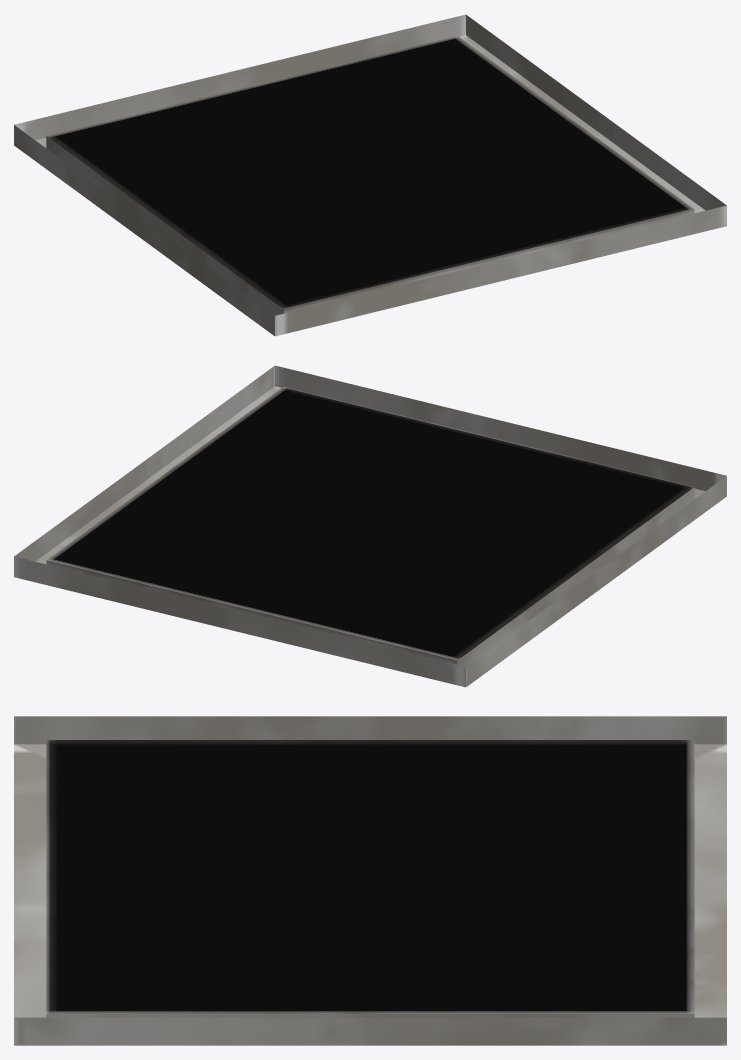
Rendered from FBX_Vent02.fbx.
3 views of the same model, one above another, from view 1: azimuth 30°, elevation 25°; view 2: azimuth 150°, elevation 25°; view 3: azimuth 270°, elevation 25° (orthographic). The views are drawn at different scales.
Visible parts, largest first — view 1: SM_Vent02; view 2: SM_Vent02; view 3: SM_Vent02.
Boxes of the visible parts, left/top/right/bottom form: SM_Vent02: left=14, top=14, right=726, bottom=336; SM_Vent02: left=14, top=365, right=726, bottom=687; SM_Vent02: left=14, top=716, right=726, bottom=1045.
Bounding box in the file's own units: 0.6228 × 0.0346 × 0.6228.
